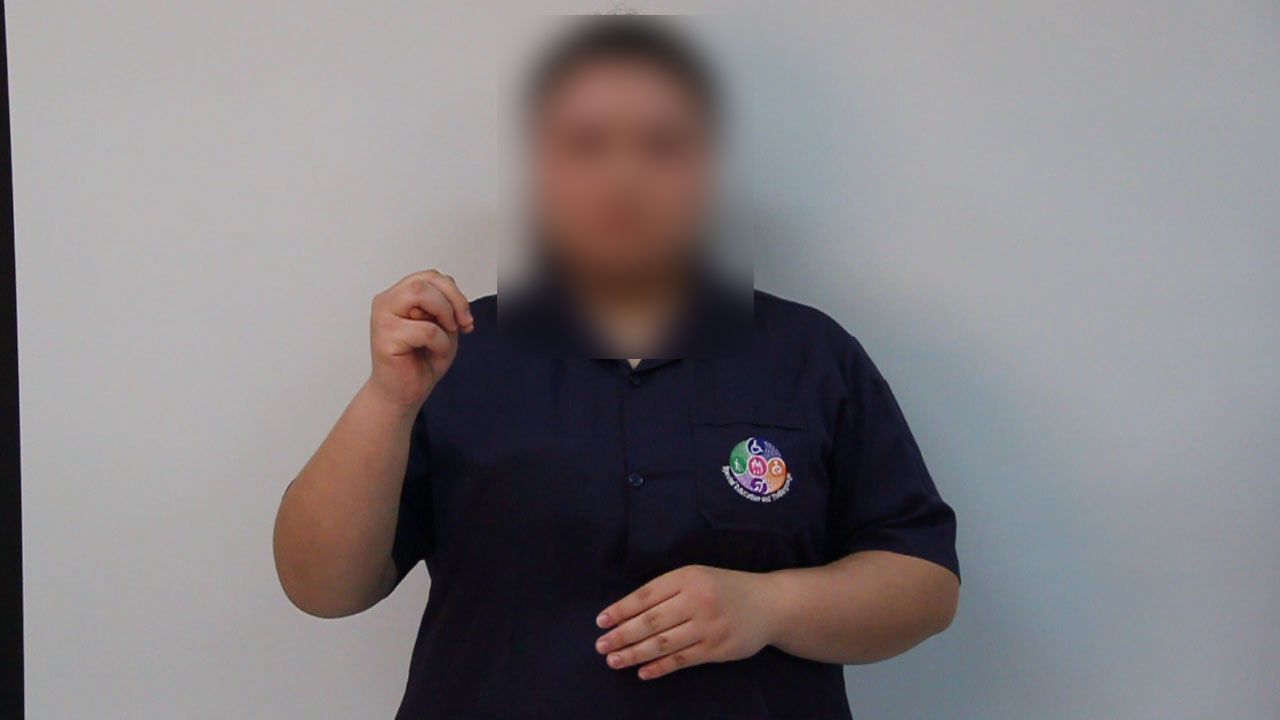mor: (348, 228, 484, 412)
